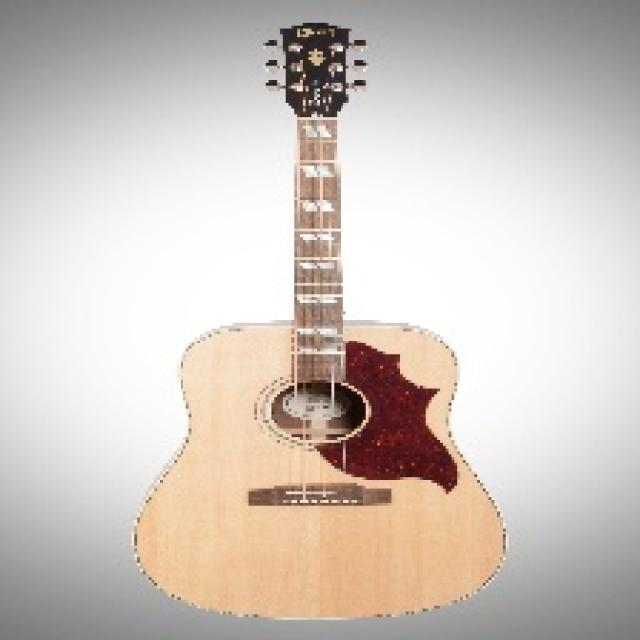guitar: (127, 22, 513, 626)
